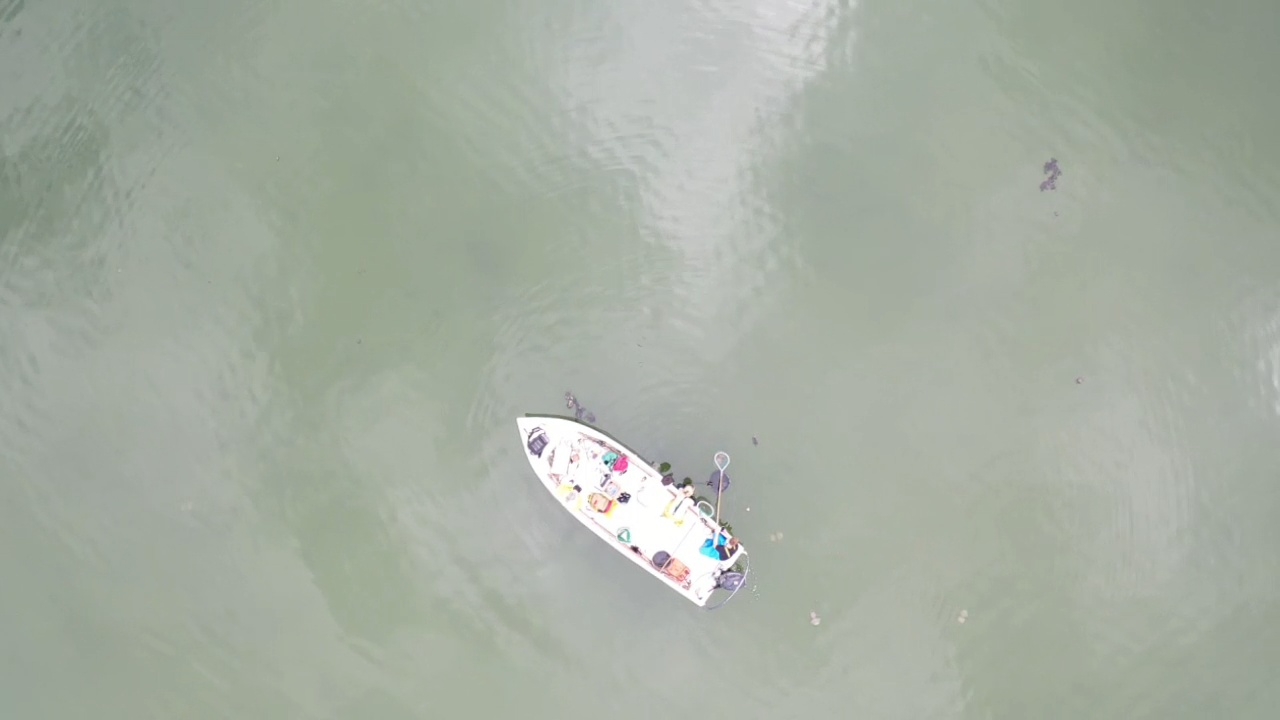meduse: (955, 609, 971, 624), (769, 532, 786, 545), (182, 501, 197, 515), (810, 612, 822, 626)
